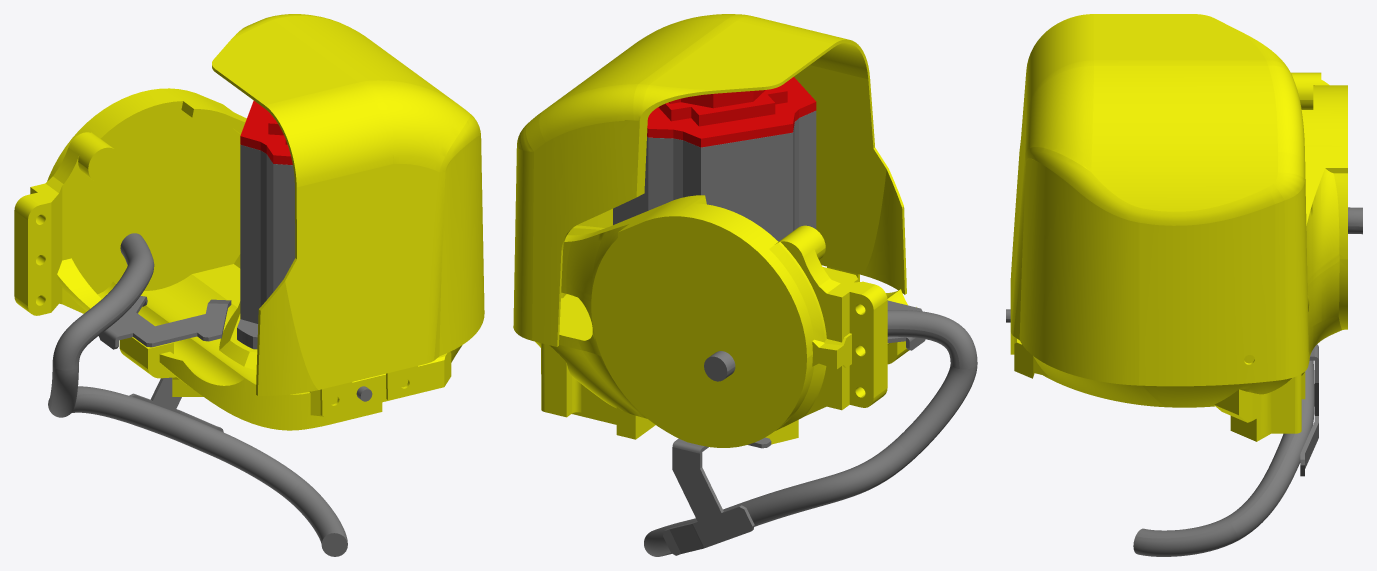
The picture shows the model from 3 angles, left to right: view 1: azimuth 30°, elevation 25°; view 2: azimuth 150°, elevation 25°; view 3: azimuth 270°, elevation 25°; orthographic projection. The views are drawn at different scales.
Parts seen in each view (by area): view 1: Mesh_0-mesh, Mesh_0-mesh_1, Mesh_0-mesh_2; view 2: Mesh_0-mesh, Mesh_0-mesh_1, Mesh_0-mesh_2; view 3: Mesh_0-mesh, Mesh_0-mesh_1.
Part boxes in pixels (box(x1,y1,x2,y2)): Mesh_0-mesh: box(14, 14, 484, 430); Mesh_0-mesh_1: box(48, 144, 372, 556); Mesh_0-mesh_2: box(240, 100, 292, 164); Mesh_0-mesh: box(513, 14, 916, 447); Mesh_0-mesh_1: box(613, 111, 977, 556); Mesh_0-mesh_2: box(647, 77, 816, 147); Mesh_0-mesh: box(1010, 14, 1347, 441); Mesh_0-mesh_1: box(1006, 207, 1362, 556).
Bounding box in the file's own units: 0.3468 × 0.4007 × 0.2625.
